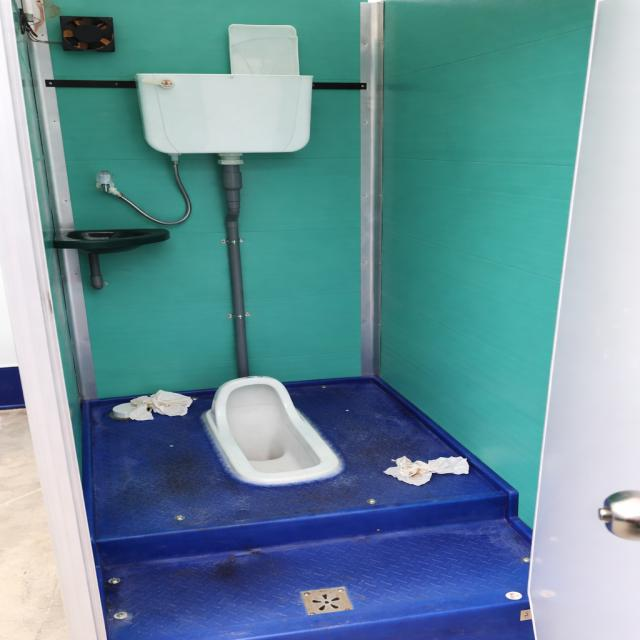dirty_area: (321, 401, 438, 465), (128, 442, 234, 508), (168, 552, 300, 595), (261, 480, 363, 516)
garbage: (370, 443, 483, 495), (106, 390, 197, 432)
